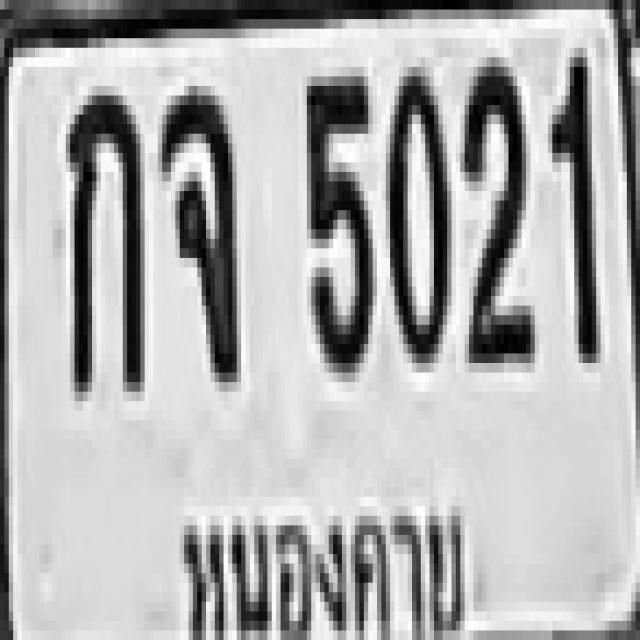0: (386, 58, 447, 354)
1: (548, 48, 592, 353)
10GorGai: (66, 86, 140, 382)
17ChorChan: (158, 81, 237, 378)
2: (460, 53, 530, 358)
5: (302, 67, 368, 363)
NongKhai: (164, 472, 483, 640)
